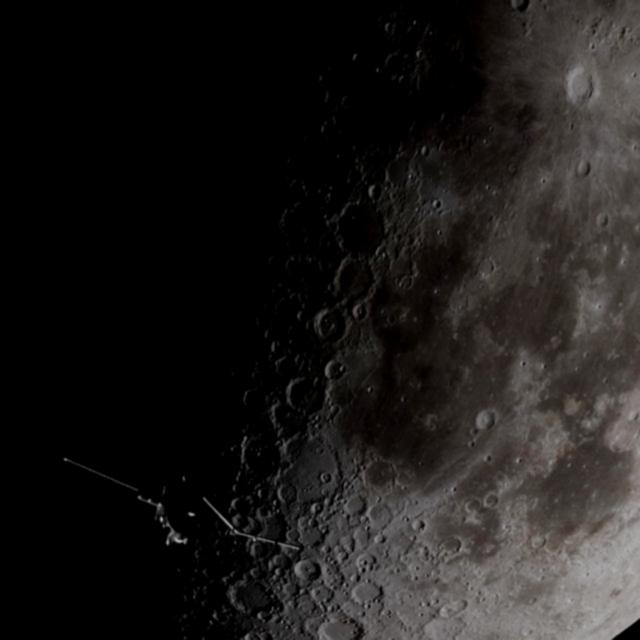satellite: (33, 439, 309, 572)
